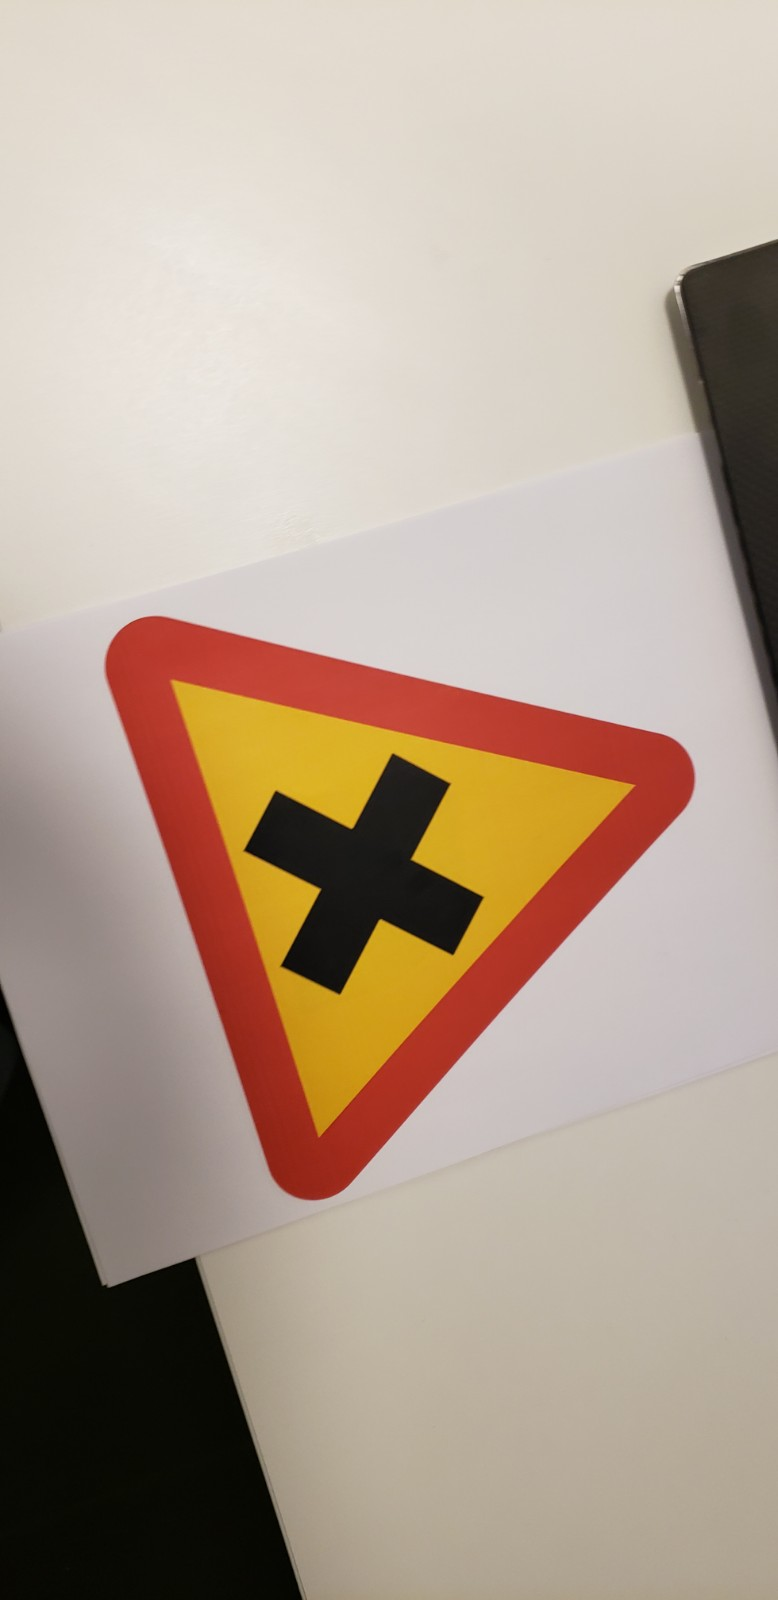junction: (66, 601, 712, 1242)
